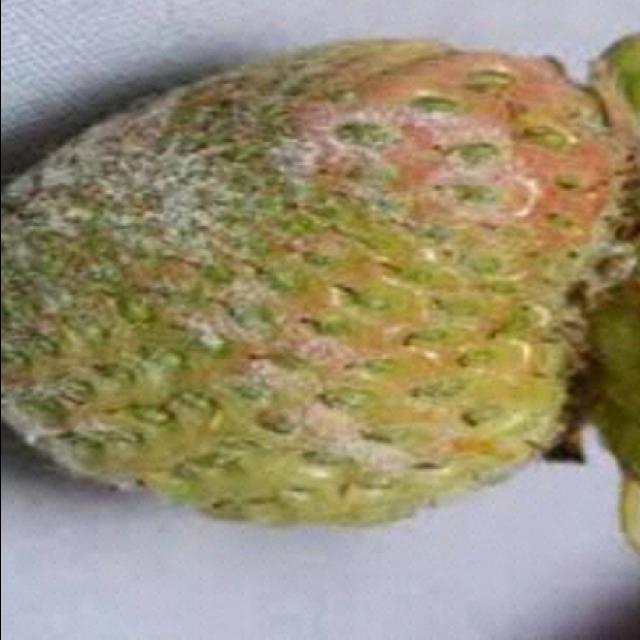Powdery Mildew Fruit: (2, 45, 637, 505)
